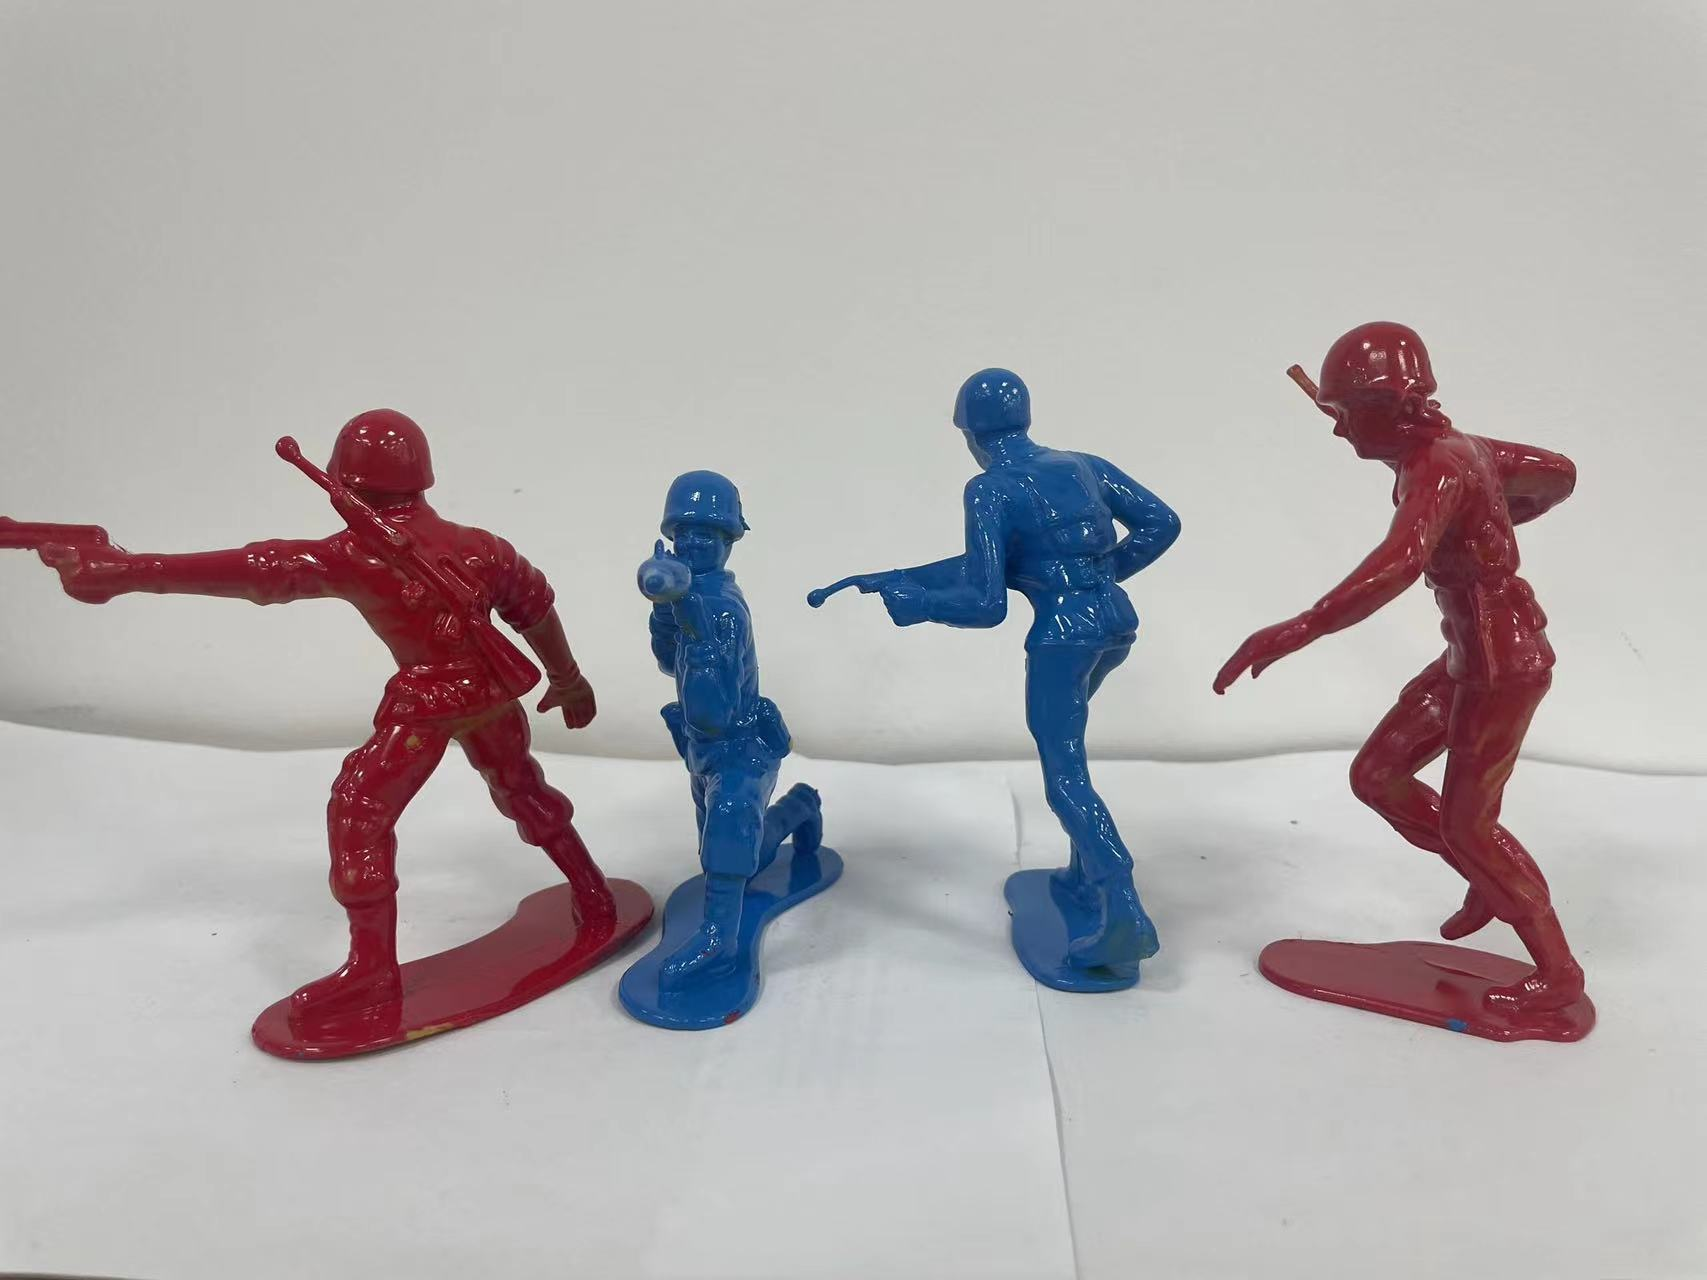blue: (800, 356, 1224, 1045), (614, 440, 863, 1047)
red: (1220, 303, 1669, 1086)
